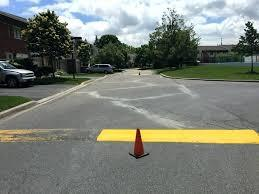Bump: (0, 129, 258, 142)
